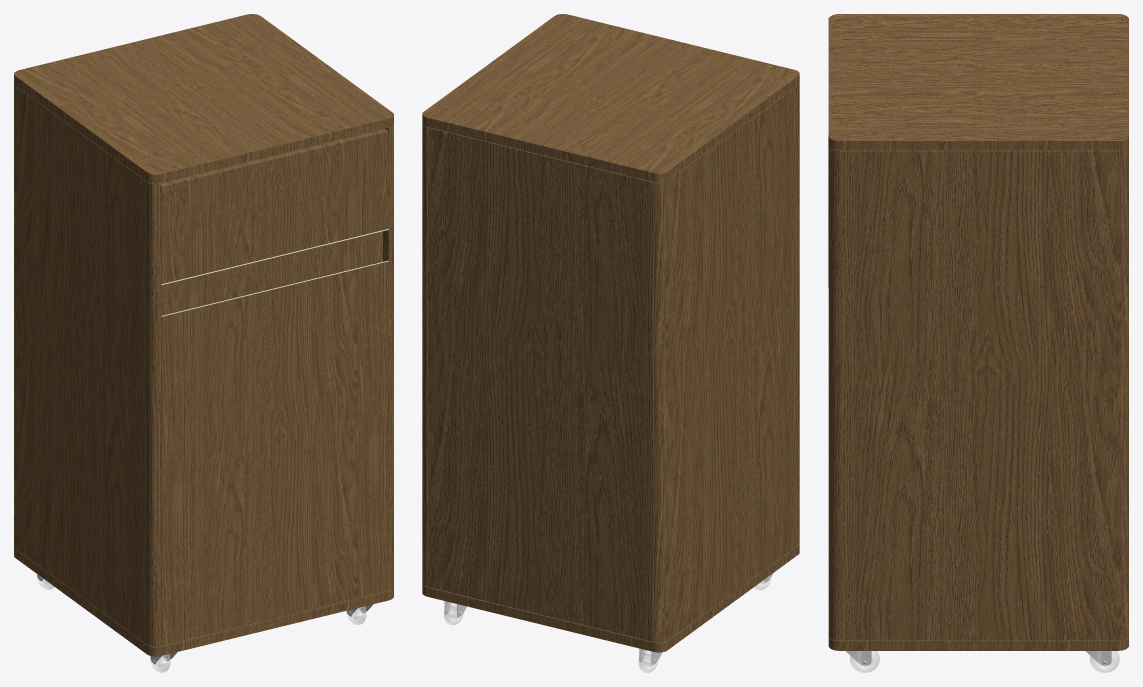
File: arrondi_bedSide_table.glb
3 renders of one model, left to right at view 1: azimuth 30°, elevation 25°; view 2: azimuth 150°, elevation 25°; view 3: azimuth 270°, elevation 25°, orthographic. The views are drawn at different scales.
Visible parts, largest first — view 1: Plane.015, Plane.017, Plane.018, Plane.014, Plane.013, Plane.016; view 2: Plane.006, Plane.017, Plane.018, Plane.016; view 3: Plane.017, Plane.018, Plane.016.
Part boxes in pixels (box(x1,y1,x2,y2)): Plane.015: box(161, 261, 388, 645); Plane.017: box(14, 84, 393, 646); Plane.018: box(14, 14, 393, 183); Plane.014: box(161, 128, 388, 284); Plane.013: box(161, 231, 382, 315); Plane.016: box(14, 547, 393, 656); Plane.006: box(428, 127, 653, 641); Plane.017: box(422, 84, 799, 642); Plane.018: box(422, 14, 799, 182); Plane.016: box(422, 544, 799, 652); Plane.017: box(828, 147, 1128, 640); Plane.018: box(828, 14, 1128, 150); Plane.016: box(828, 637, 1128, 650).
Bounding box in the file's own units: 0.4 × 0.8 × 0.4009.
4 materials, 1 textured.
